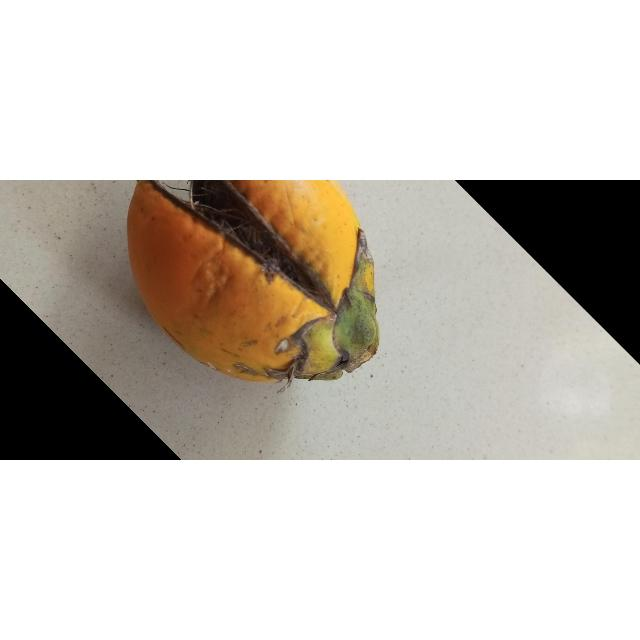damaged: (126, 180, 381, 384)
